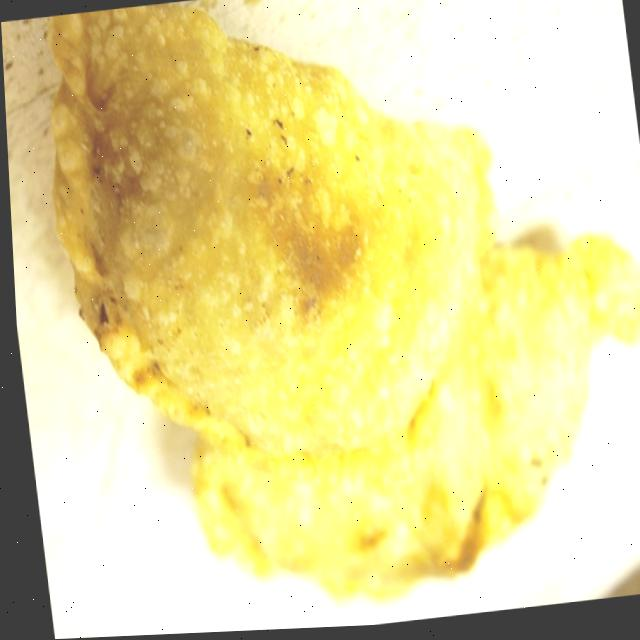炸货点心: (7, 0, 640, 626)
